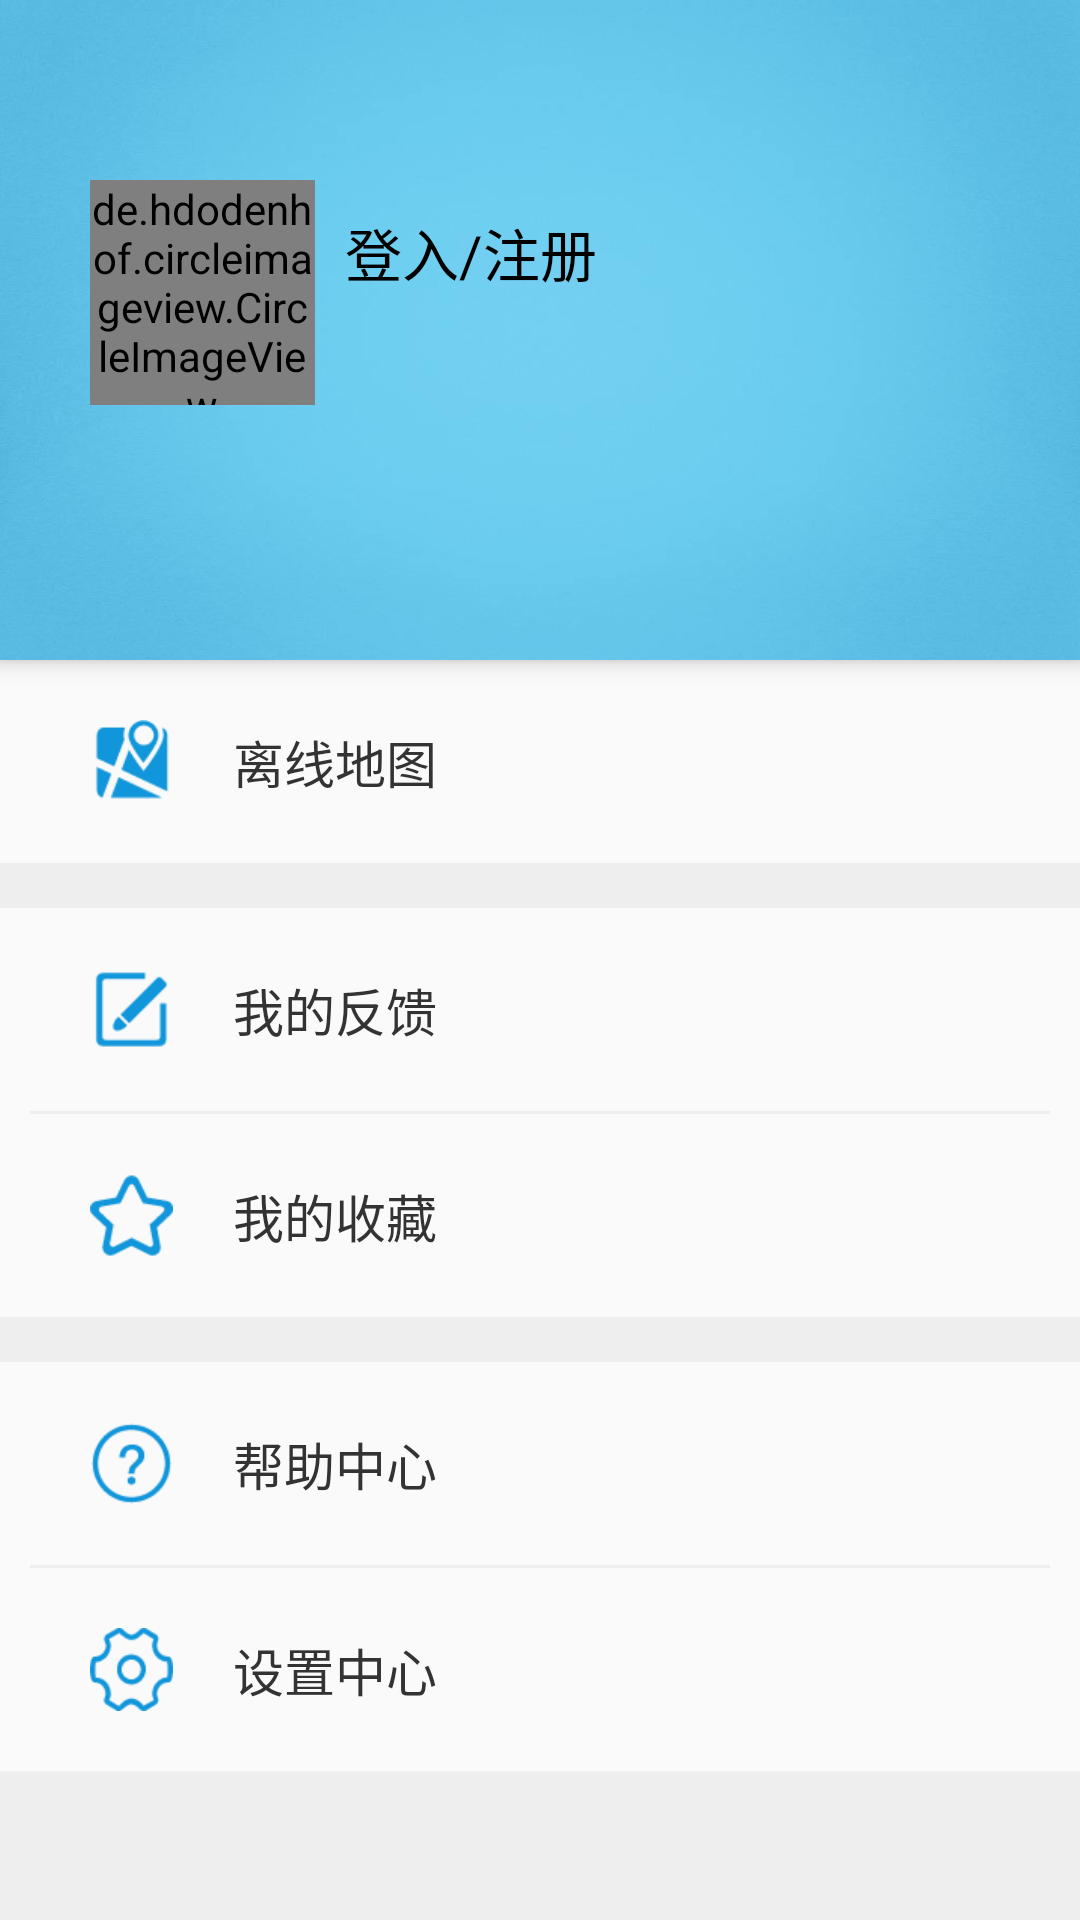

Named icons in this screenshot (1080 x 1920) and their bounding boxes, detection(x1, y1, x2, y2):
collection: detection(90, 1175, 173, 1256)
feedback info: detection(95, 972, 167, 1047)
help: detection(91, 1423, 172, 1504)
map download: detection(96, 720, 169, 799)
set: detection(90, 1628, 173, 1711)
